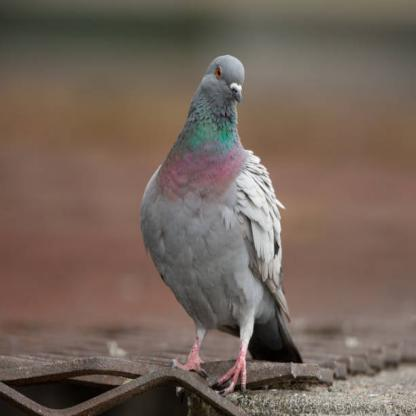Flying Rat: (132, 53, 297, 388)
